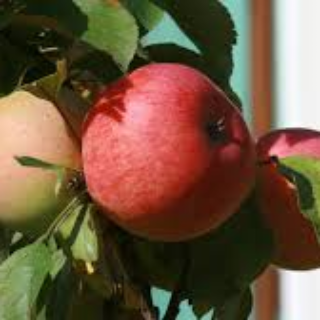tao: (77, 58, 257, 246)
